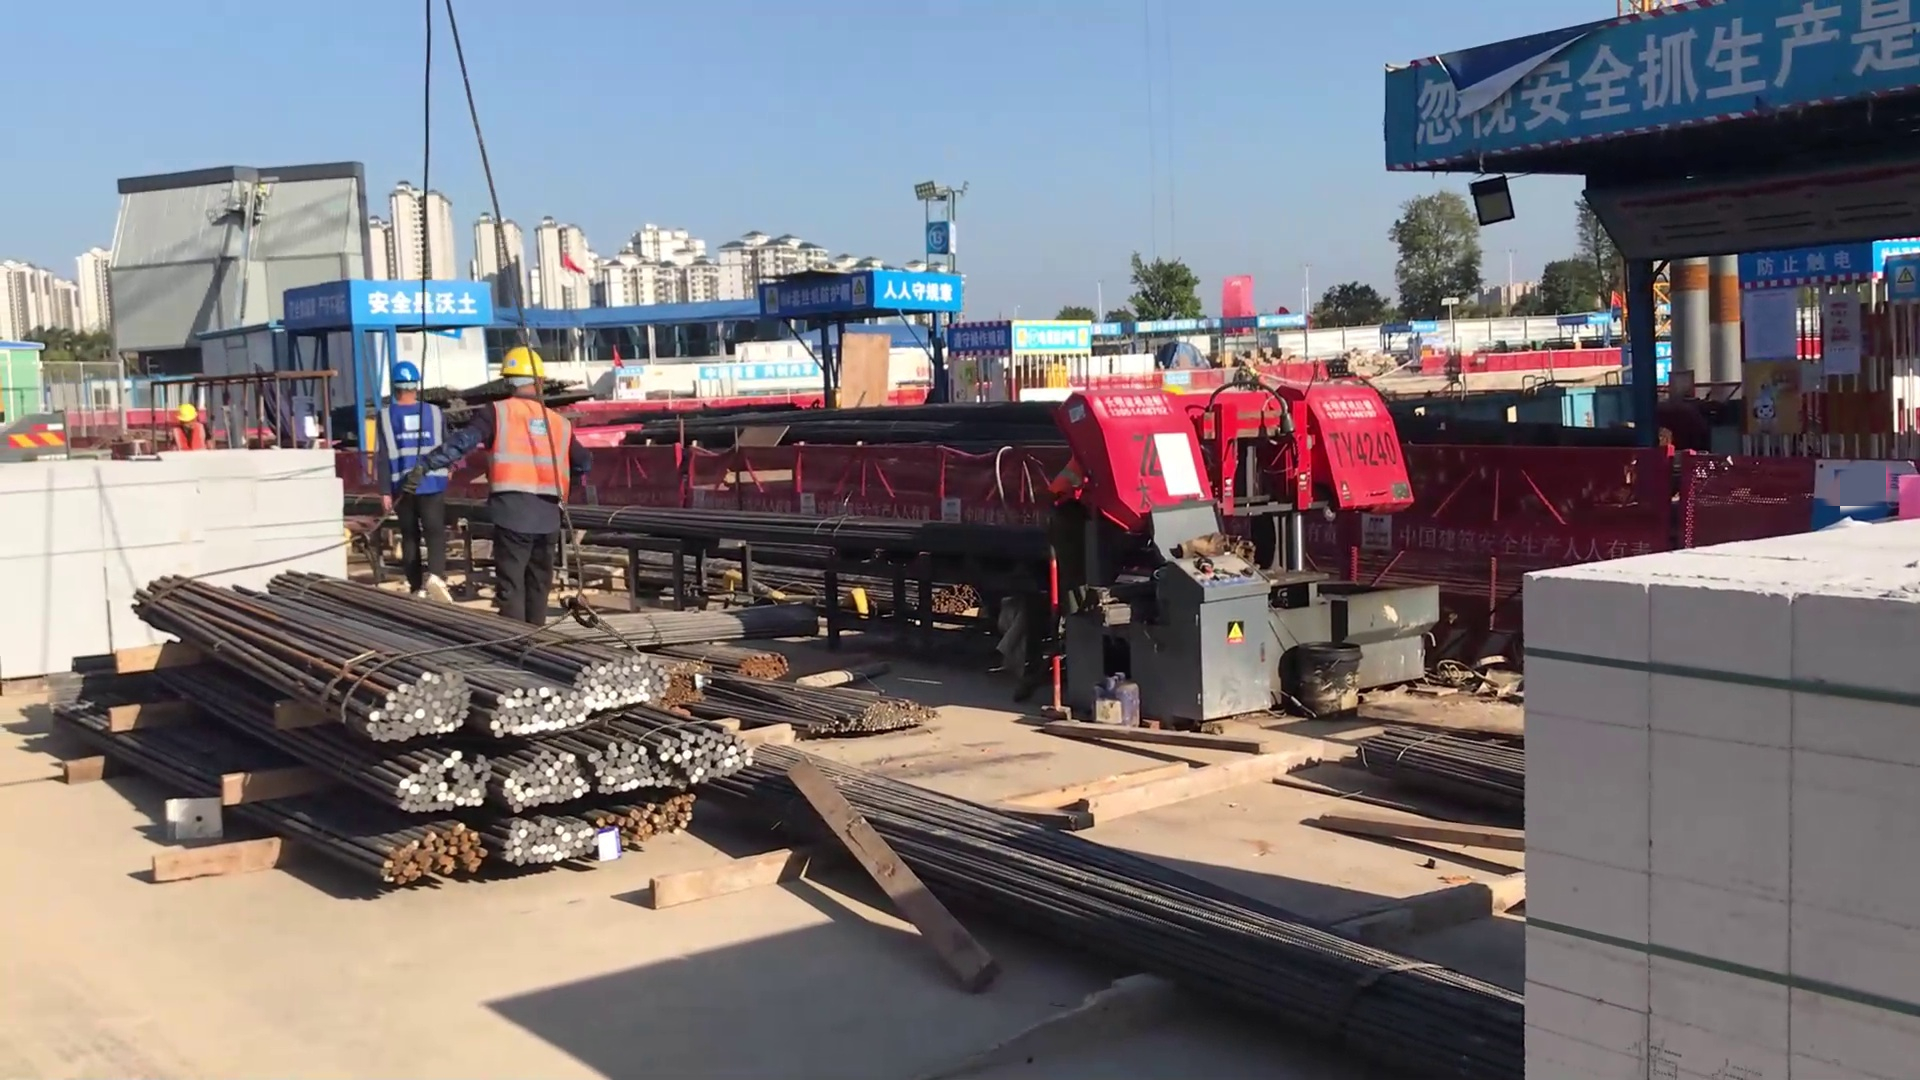brick: (1486, 502, 1920, 1077), (1, 428, 357, 697)
helmet: (490, 338, 549, 389), (383, 356, 426, 398), (168, 400, 206, 432)
person: (469, 335, 589, 648), (367, 352, 463, 614), (160, 396, 221, 464)
rebar: (272, 562, 598, 738), (131, 571, 472, 736), (282, 570, 665, 709), (178, 662, 501, 819), (238, 784, 493, 892), (590, 695, 758, 787), (461, 802, 608, 878), (479, 731, 599, 819), (554, 720, 665, 802), (583, 791, 715, 848)
slogan: (1381, 1, 1920, 178), (353, 278, 490, 324), (1733, 242, 1884, 281), (700, 359, 817, 387), (878, 273, 957, 309), (949, 322, 1014, 353)
vest: (478, 392, 572, 510), (374, 395, 450, 505), (168, 421, 207, 450)
